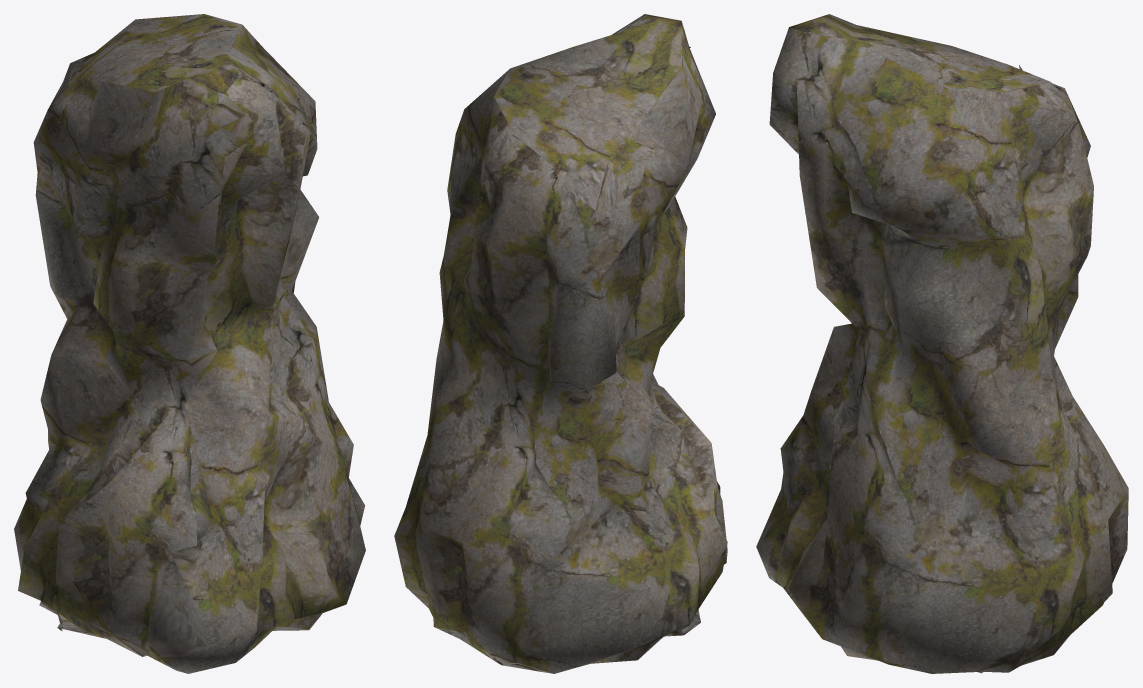
File: rock_scl_1_009.glb
The picture shows the model from 3 angles, left to right: view 1: azimuth 30°, elevation 25°; view 2: azimuth 150°, elevation 25°; view 3: azimuth 270°, elevation 25°; orthographic projection. The views are drawn at different scales.
Parts seen in each view (by area): view 1: rock scl 1.009; view 2: rock scl 1.009; view 3: rock scl 1.009.
Boxes of the visible parts, left/top/right/bottom form: rock scl 1.009: left=14, top=14, right=365, bottom=673; rock scl 1.009: left=394, top=14, right=727, bottom=673; rock scl 1.009: left=756, top=14, right=1128, bottom=673.
Size of the model in its own units: 6.01 by 11.54 by 6.63.
1 material, 1 textured.
